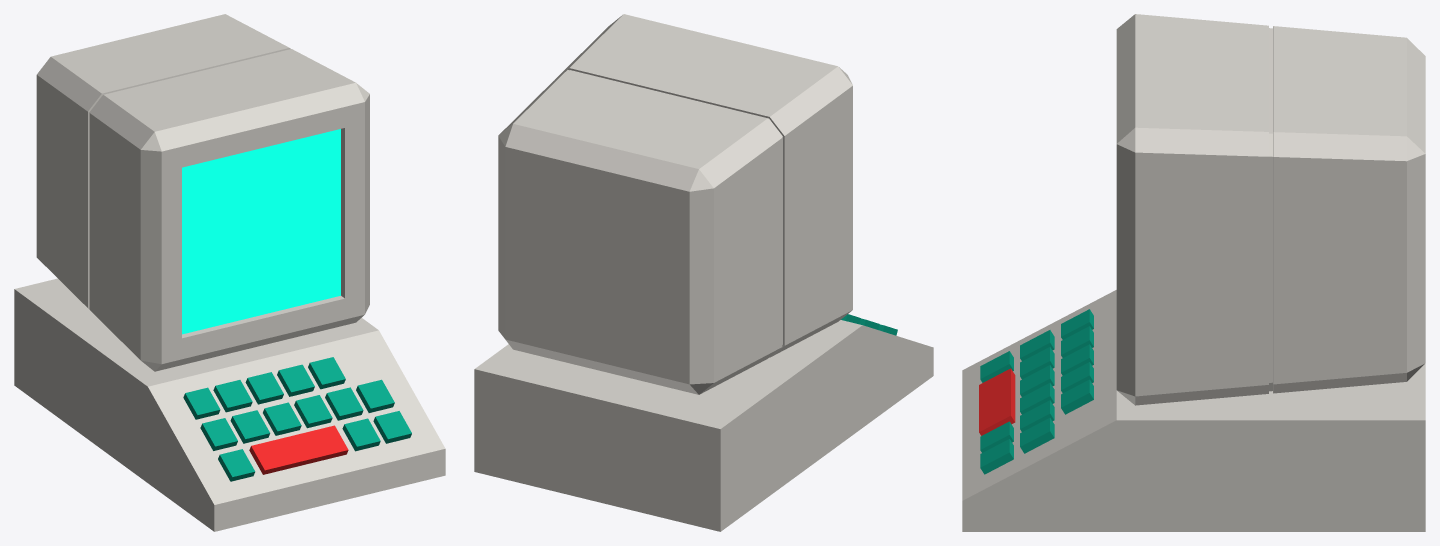
File: Alesssandro_3D.glb
The picture shows the model from 3 angles, left to right: view 1: azimuth 30°, elevation 25°; view 2: azimuth 150°, elevation 25°; view 3: azimuth 270°, elevation 25°; orthographic projection. The views are drawn at different scales.
Visible parts, largest first — view 1: PC_monitor, PC_keyboard, PC_screen; view 2: PC_monitor, PC_keyboard; view 3: PC_monitor, PC_keyboard.
Part boxes in pixels (left/top/right/bottom): PC_monitor: left=36, top=14, right=369, bottom=371; PC_keyboard: left=14, top=278, right=445, bottom=531; PC_screen: left=182, top=129, right=340, bottom=334; PC_monitor: left=498, top=14, right=852, bottom=394; PC_keyboard: left=474, top=314, right=933, bottom=531; PC_monitor: left=1116, top=14, right=1425, bottom=405; PC_keyboard: left=962, top=290, right=1425, bottom=531.
Bounding box in the file's own units: 1.02 × 1.44 × 1.52.
